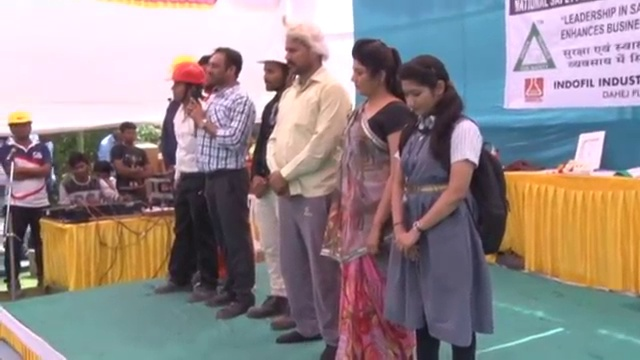helmet: (162, 56, 205, 91), (255, 38, 289, 66), (3, 107, 34, 125)
helmet_off: (392, 51, 457, 127), (346, 36, 398, 100), (276, 24, 327, 76), (200, 48, 242, 95), (63, 152, 90, 184), (91, 160, 113, 187), (120, 124, 137, 150), (108, 126, 124, 146)
helmet_on: (163, 61, 206, 108), (256, 42, 289, 97), (2, 106, 35, 148)
person: (384, 48, 514, 360), (265, 22, 351, 360), (335, 39, 412, 359), (183, 47, 257, 322), (247, 38, 295, 329), (157, 57, 205, 306), (0, 106, 52, 302), (53, 150, 109, 211), (109, 121, 150, 192), (94, 124, 128, 162)
